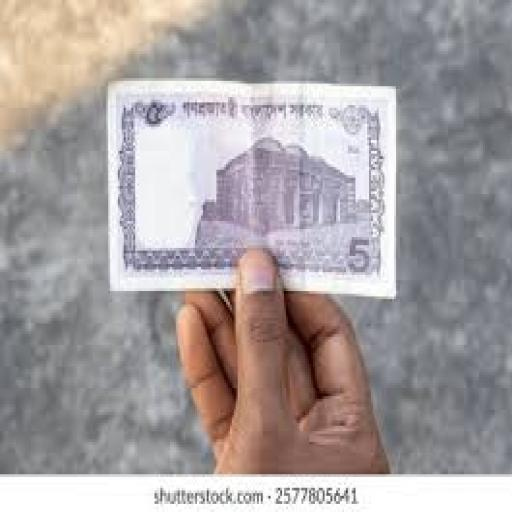5taka: (108, 78, 394, 294)
